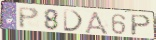6: (111, 13, 128, 35)
8: (43, 8, 60, 32)
A: (83, 11, 111, 36)
D: (63, 9, 85, 33)
P: (17, 6, 41, 30), (130, 14, 153, 37)
